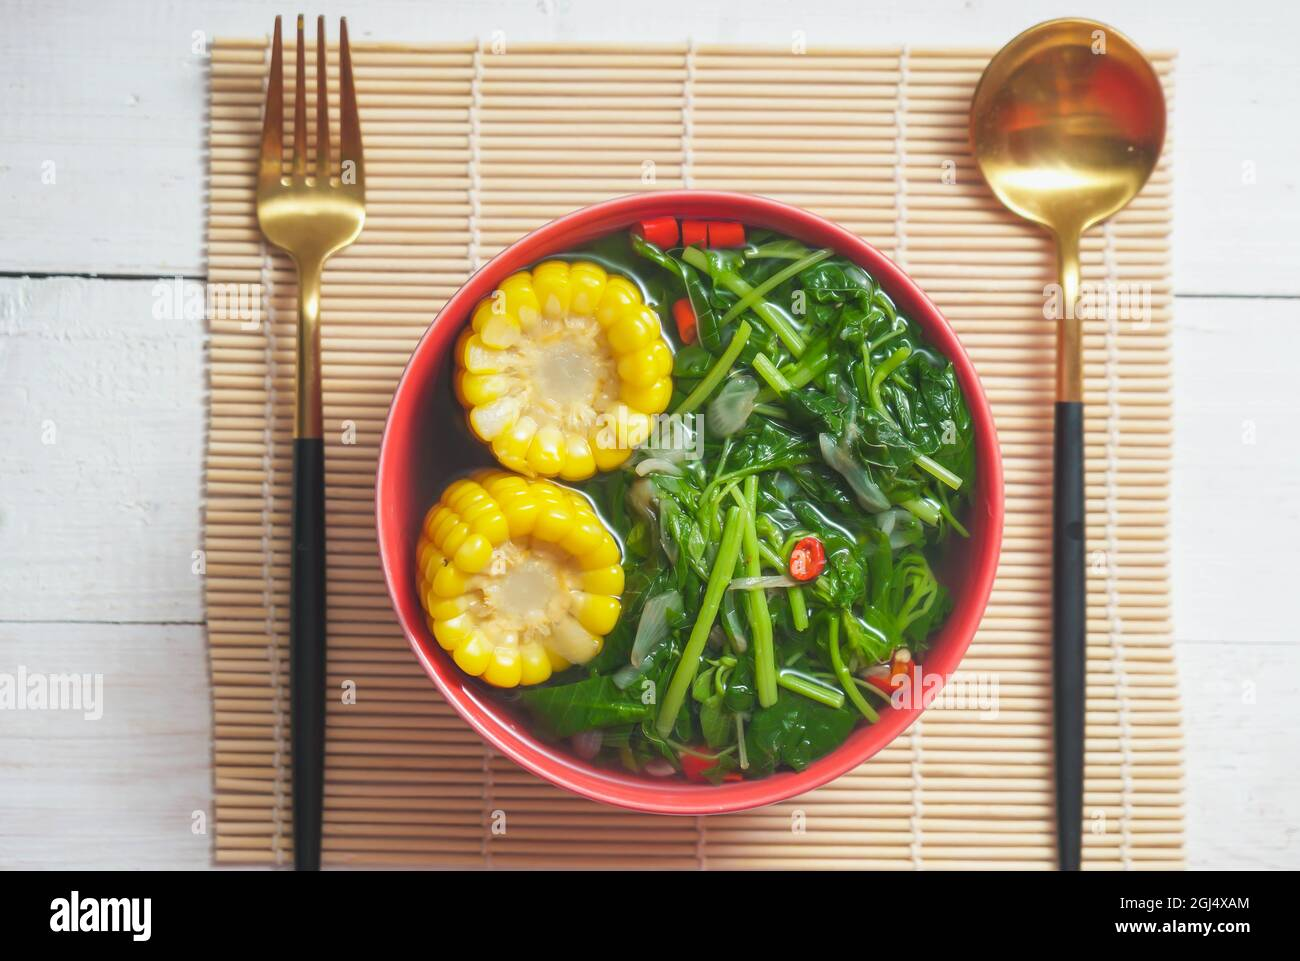Sayur Bayam: (371, 243, 977, 791)
